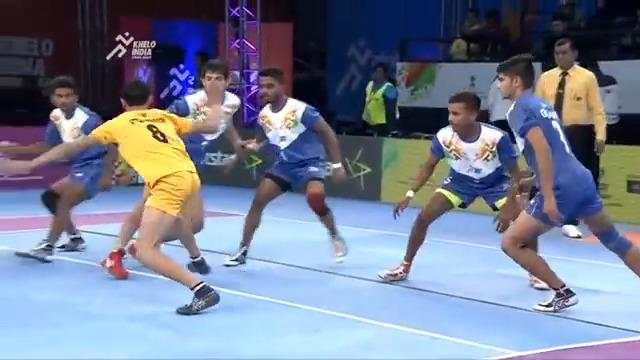Player: (493, 52, 638, 314), (376, 89, 530, 285), (222, 65, 351, 270), (37, 64, 89, 287), (187, 59, 232, 167)
Raider: (22, 78, 228, 316)
referee: (533, 36, 607, 238)
